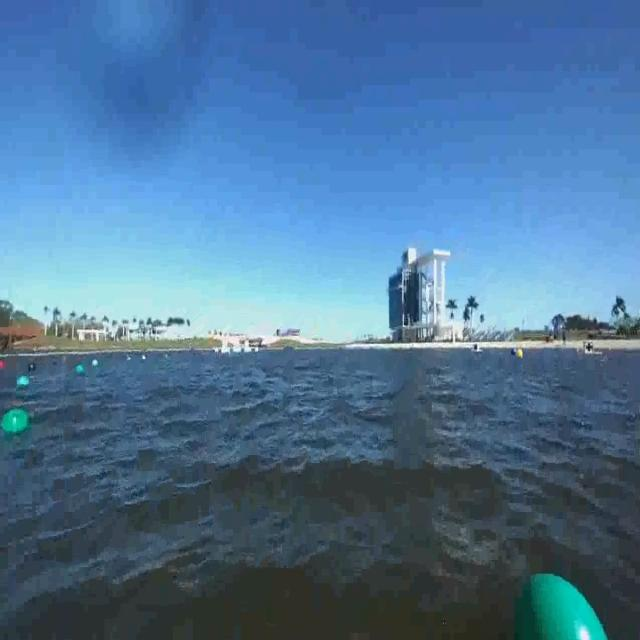green-buoy: (523, 561, 636, 640), (1, 411, 30, 436), (16, 378, 30, 390), (75, 364, 85, 376)
red-buoy: (0, 361, 6, 368)
yellow-buoy: (515, 348, 522, 360)
